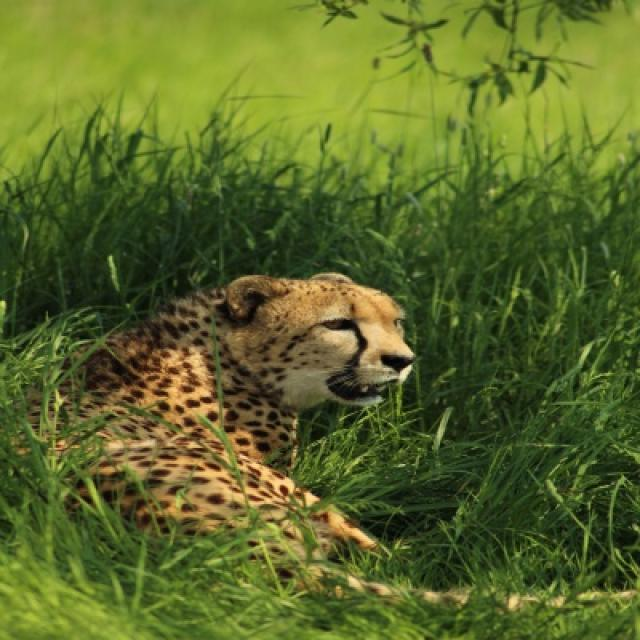Cheetah: (16, 264, 638, 608)
